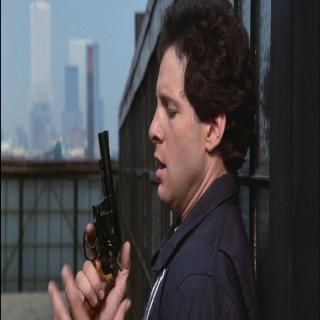gun: (63, 126, 134, 320)
